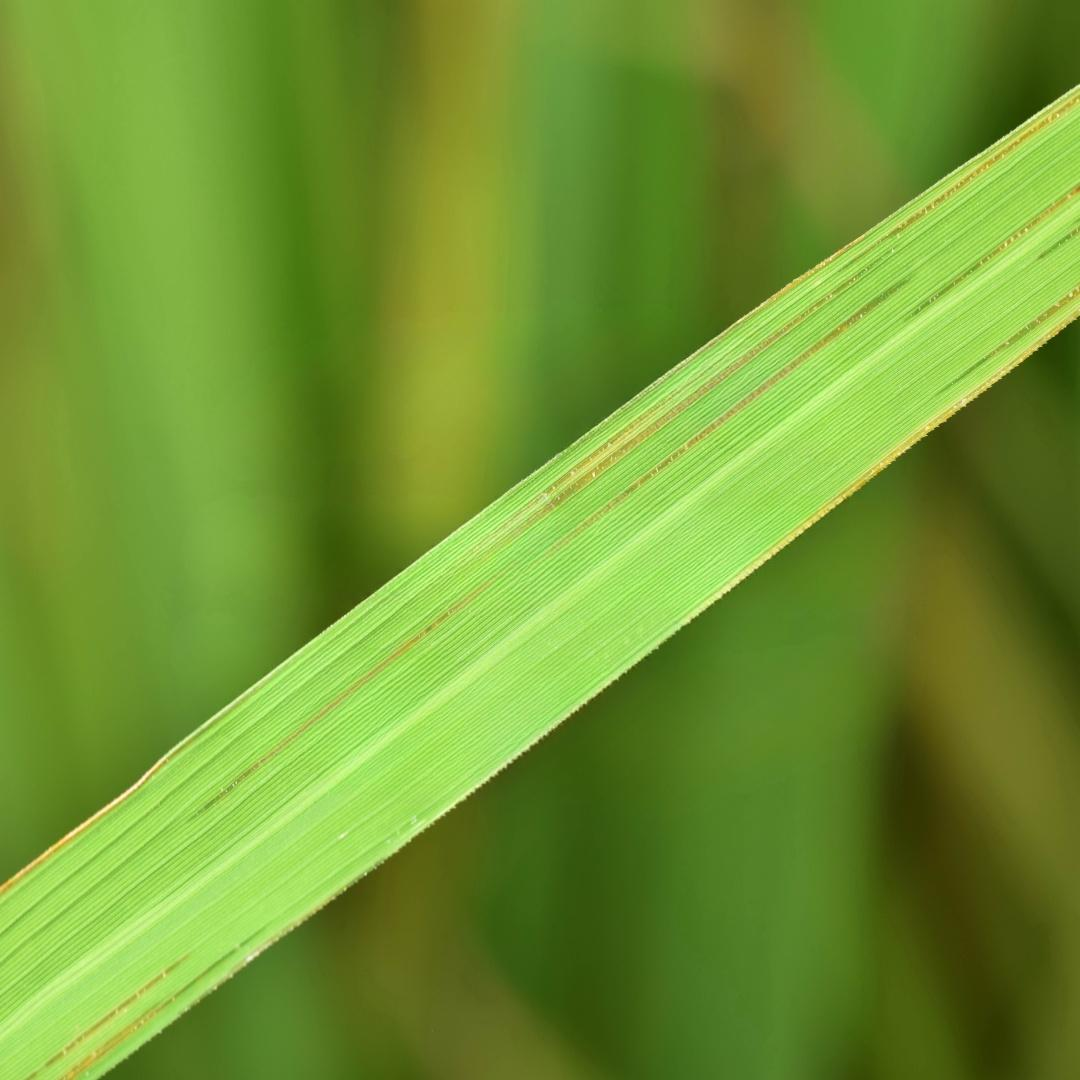BLS: (463, 247, 900, 572), (678, 308, 1079, 625), (539, 274, 919, 562), (189, 564, 515, 823), (464, 331, 758, 559), (830, 93, 1079, 279), (59, 906, 297, 1079), (0, 729, 203, 896), (682, 234, 868, 367), (897, 187, 1078, 323), (24, 952, 196, 1079), (920, 285, 1079, 407), (1031, 226, 1079, 263)
LEAF: (0, 88, 1079, 1079)
